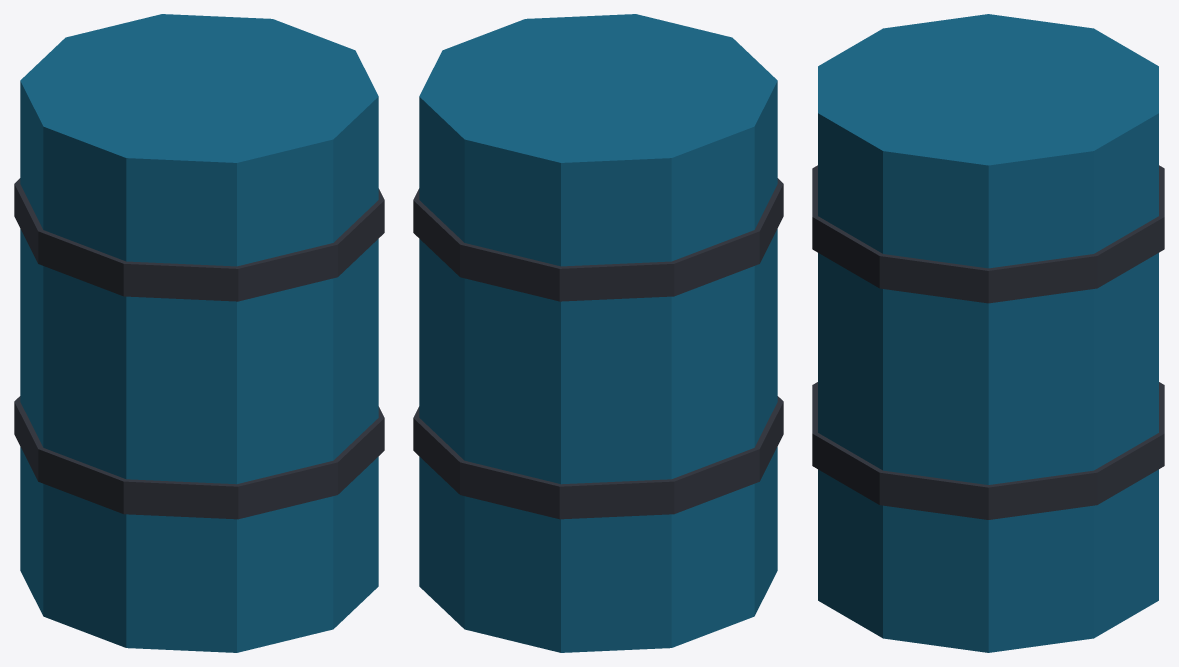
The model's file is barrel_blue.glb.
The picture shows the model from 3 angles, left to right: view 1: azimuth 30°, elevation 25°; view 2: azimuth 150°, elevation 25°; view 3: azimuth 270°, elevation 25°; orthographic projection.
Parts seen in each view (by area): view 1: model; view 2: model; view 3: model.
Part boxes in pixels (x1,y1,x2,y2): model: [14, 14, 384, 652]; model: [413, 14, 783, 652]; model: [812, 14, 1164, 652].
Bounding box in the file's own units: 0.62 × 0.9 × 0.5897.
